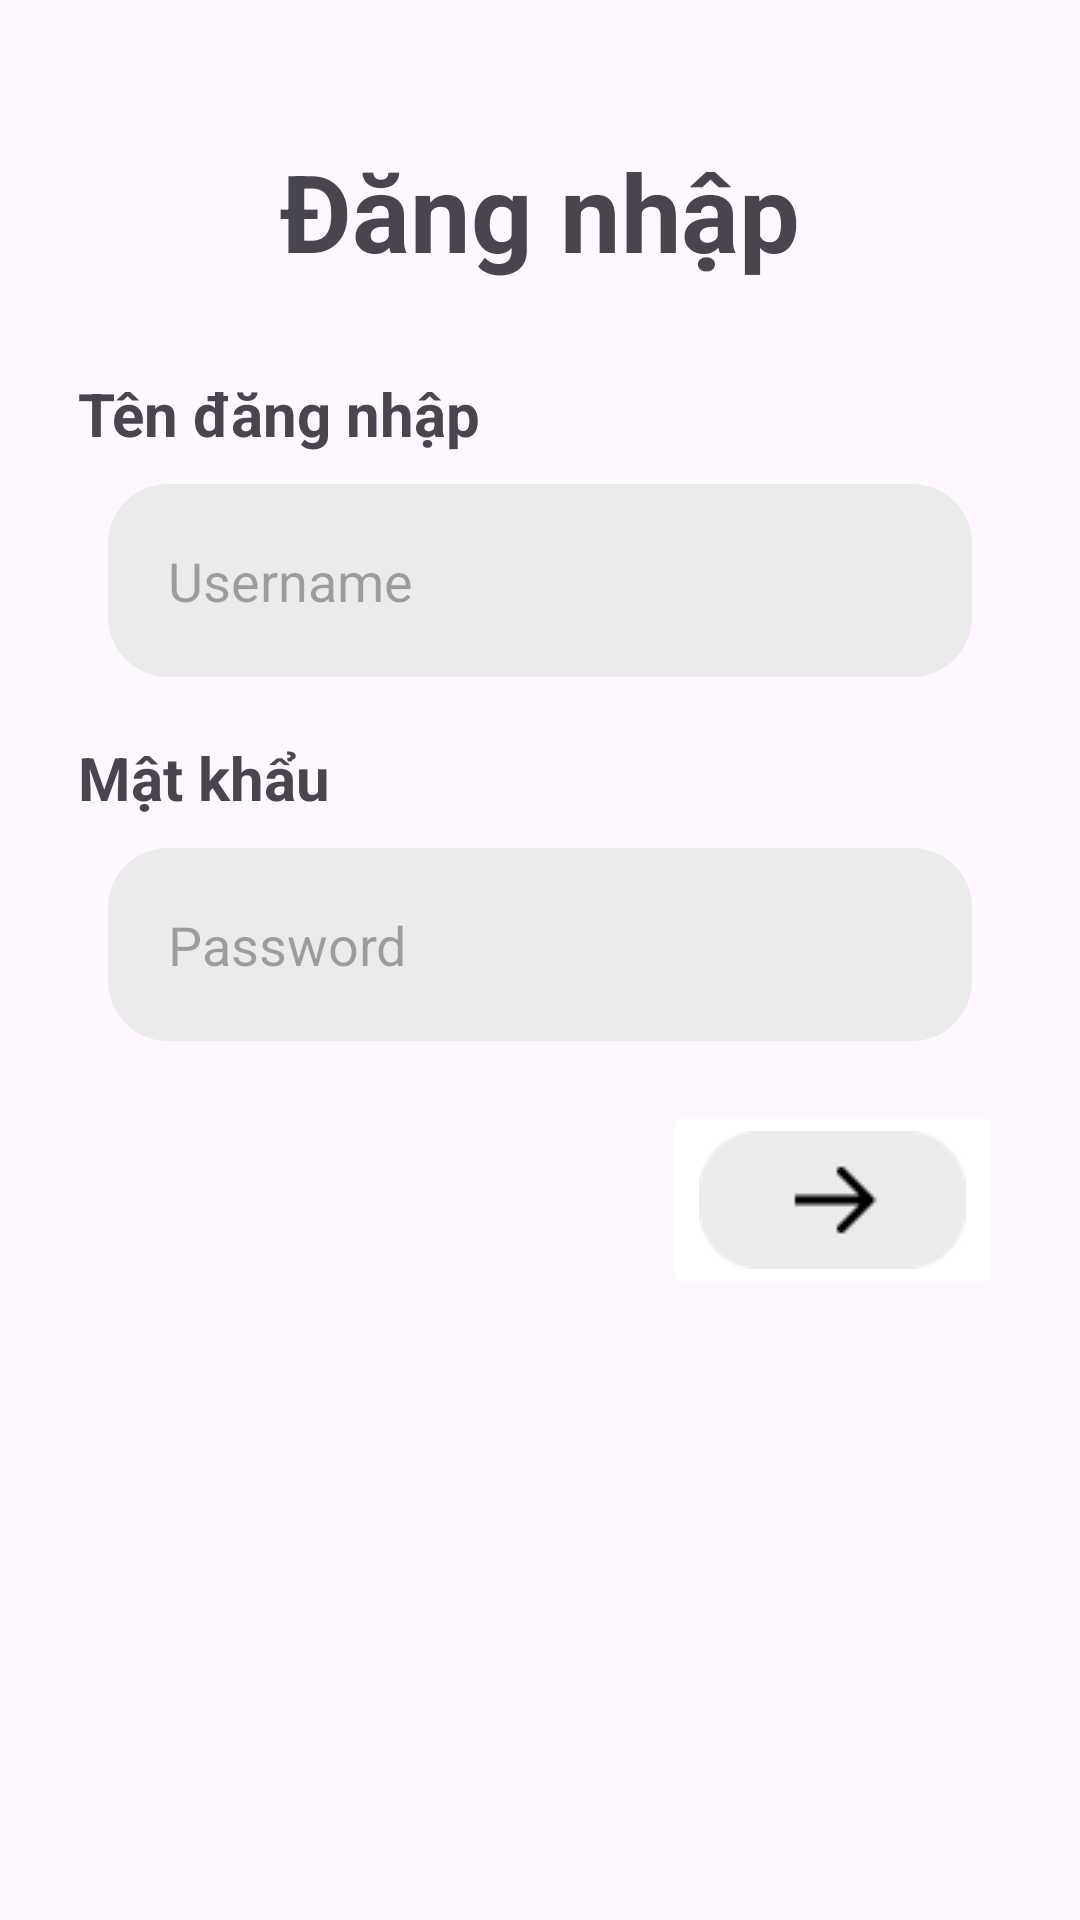

Where to tap for icons on this 1080 x 1920 app screen, as (x,y):
login: (832,1200)
